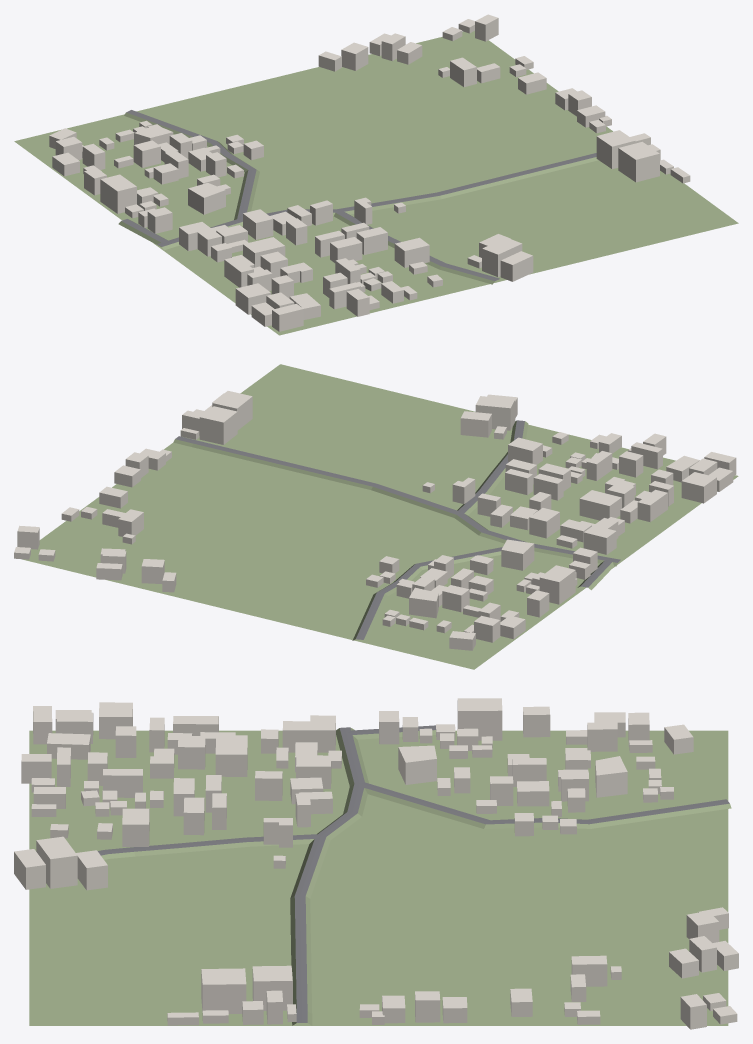
File: dhamrai_chunk_x1_z-1.glb
3 renders of one model, top to bottom at view 1: azimuth 30°, elevation 25°; view 2: azimuth 150°, elevation 25°; view 3: azimuth 270°, elevation 25°, orthographic. The views are drawn at different scales.
Parts seen in each view (by area): view 1: terrain, buildings, roads, embankments; view 2: terrain, buildings, roads, embankments; view 3: terrain, buildings, roads, embankments.
Part boxes in pixels (x1,y1,x2,y2): terrain: (14, 31, 738, 335); buildings: (49, 14, 690, 331); roads: (121, 110, 596, 281); embankments: (118, 112, 598, 284); terrain: (22, 364, 738, 669); buildings: (14, 391, 736, 650); roads: (175, 420, 620, 639); embankments: (173, 420, 617, 641); terrain: (29, 730, 728, 1025); buildings: (14, 698, 738, 1029); roads: (98, 725, 729, 1022); embankments: (101, 727, 731, 1025).
Bounding box in the file's own units: 266 × 13.23 × 265.
